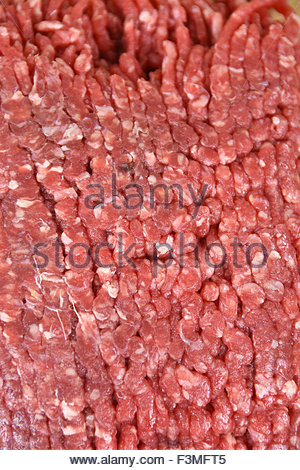ground_beef: (5, 14, 289, 432)
